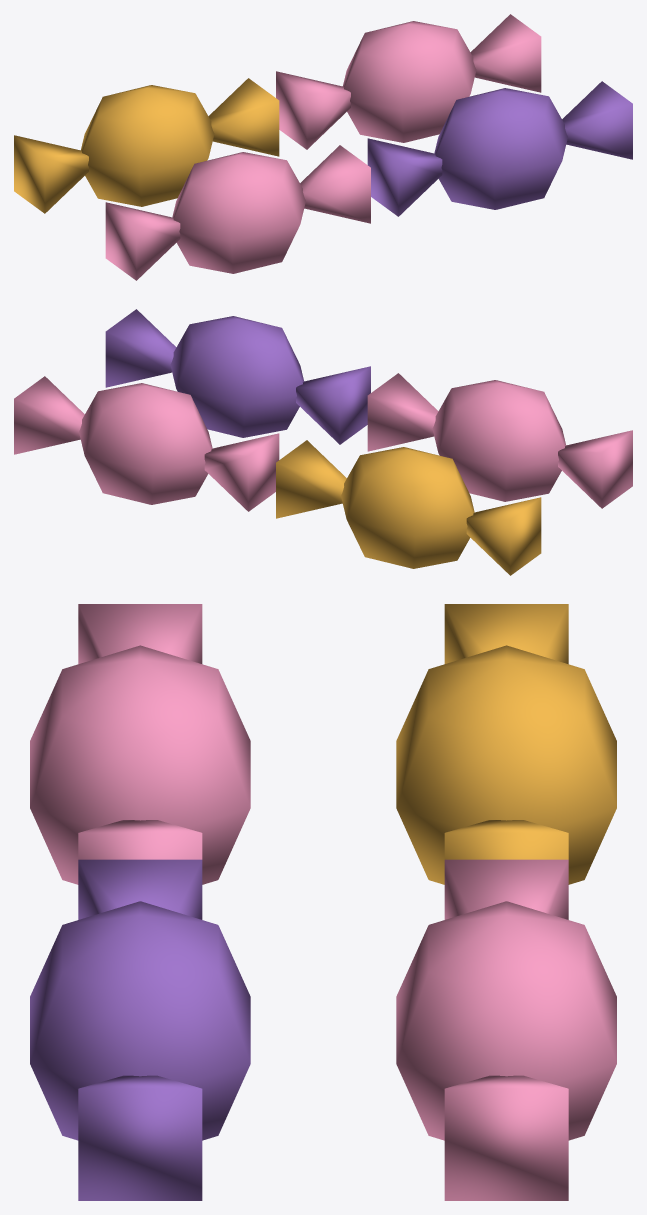
Rendered from CM_Product_CandyPieces.fbx.
3 views of the same model, one above another, from view 1: azimuth 30°, elevation 25°; view 2: azimuth 150°, elevation 25°; view 3: azimuth 270°, elevation 25° (orthographic). The views are drawn at different scales.
Visible parts, largest first — view 1: CandyPieces; view 2: CandyPieces; view 3: CandyPieces.
Boxes of the visible parts, box(x1,y1,x2,y2) form: CandyPieces: box(14, 14, 632, 280); CandyPieces: box(14, 309, 632, 575); CandyPieces: box(30, 604, 616, 1200).
Size of the model in its own units: 1.44 by 0.7371 by 0.32.
Materials: 1 (1 with a texture image).
